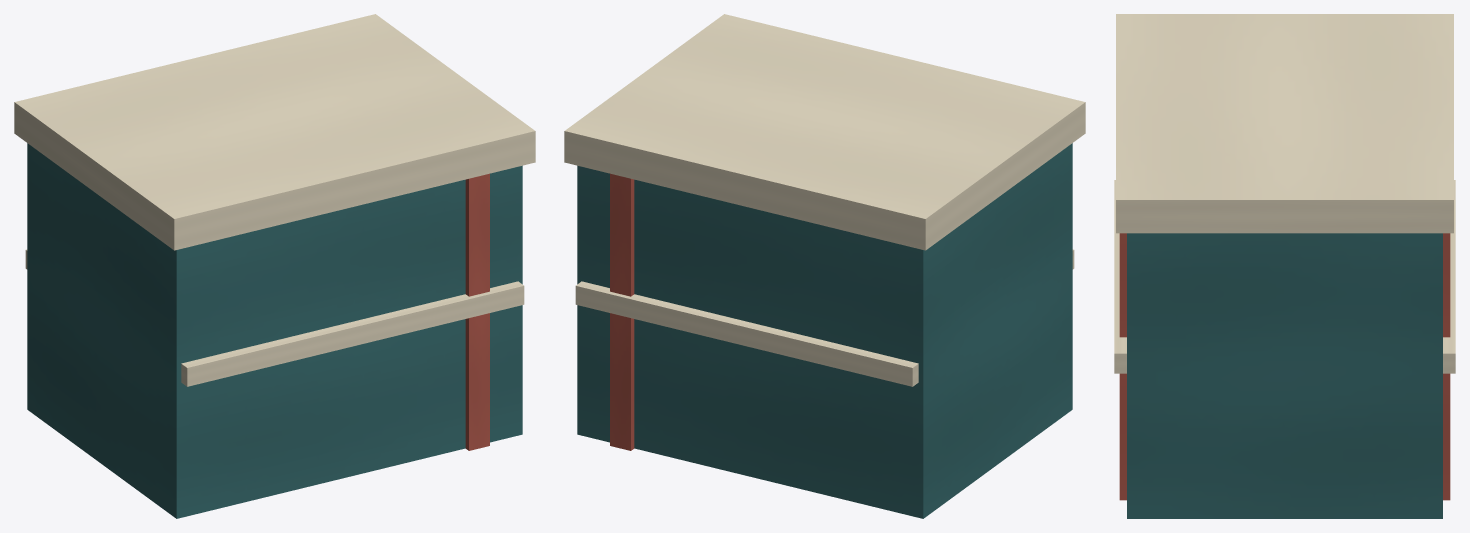
File: atlas100-porcelain-util02.lod2.glb
3 renders of one model, left to right at view 1: azimuth 30°, elevation 25°; view 2: azimuth 150°, elevation 25°; view 3: azimuth 270°, elevation 25°, orthographic. The views are drawn at different scales.
Visible parts, largest first — view 1: atlas100-porcelain-util02:part-000, atlas100-porcelain-util02:part-005, atlas100-porcelain-util02:part-004, atlas100-porcelain-util02:part-002; view 2: atlas100-porcelain-util02:part-000, atlas100-porcelain-util02:part-005, atlas100-porcelain-util02:part-003, atlas100-porcelain-util02:part-002; view 3: atlas100-porcelain-util02:part-000, atlas100-porcelain-util02:part-005, atlas100-porcelain-util02:part-002, atlas100-porcelain-util02:part-003, atlas100-porcelain-util02:part-004.
Boxes of the visible parts, x1,y1,x2,y2 form: atlas100-porcelain-util02:part-000: (27, 143, 522, 518); atlas100-porcelain-util02:part-005: (14, 14, 535, 250); atlas100-porcelain-util02:part-004: (181, 281, 524, 386); atlas100-porcelain-util02:part-002: (465, 173, 489, 450); atlas100-porcelain-util02:part-000: (577, 143, 1072, 518); atlas100-porcelain-util02:part-005: (564, 14, 1085, 250); atlas100-porcelain-util02:part-003: (575, 281, 918, 386); atlas100-porcelain-util02:part-002: (610, 173, 634, 450); atlas100-porcelain-util02:part-000: (1127, 233, 1442, 518); atlas100-porcelain-util02:part-005: (1116, 14, 1453, 233); atlas100-porcelain-util02:part-002: (1119, 233, 1450, 500); atlas100-porcelain-util02:part-003: (1443, 180, 1455, 373); atlas100-porcelain-util02:part-004: (1114, 180, 1126, 373).
Size of the model in its own units: 1.37 by 1.1 by 1.06.
Materials: 3 (3 with a texture image).
